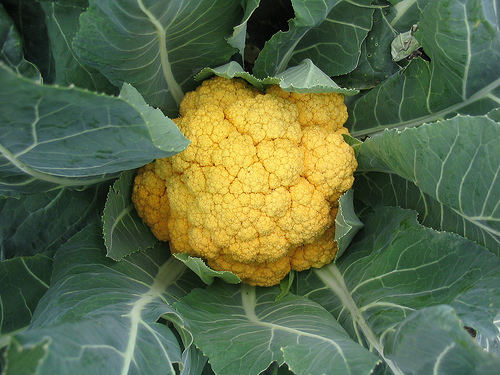cauliflower: (131, 77, 358, 287)
